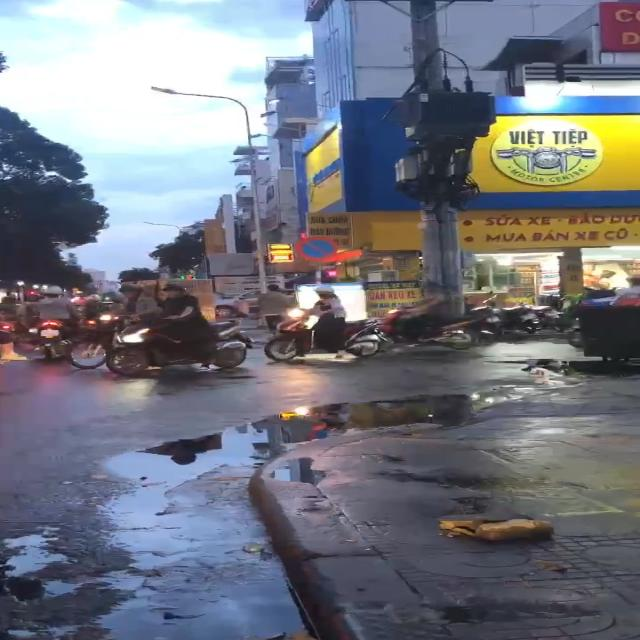Bien bao cam do xe: (292, 235, 340, 262)
